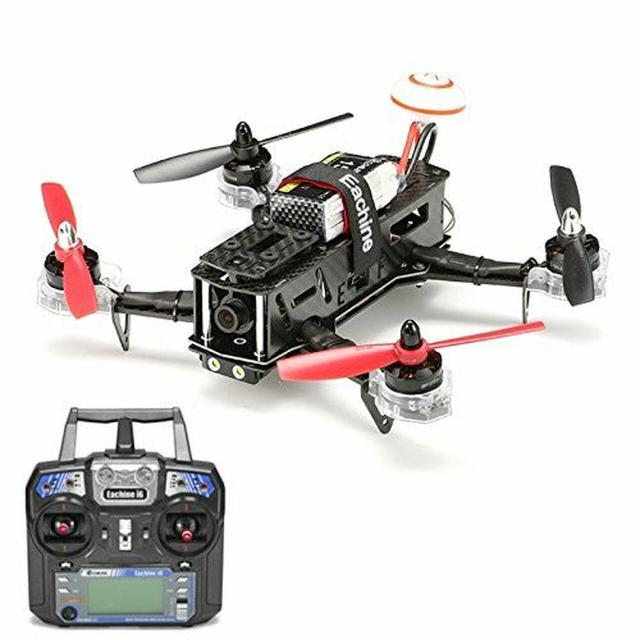drone: (0, 102, 595, 440)
